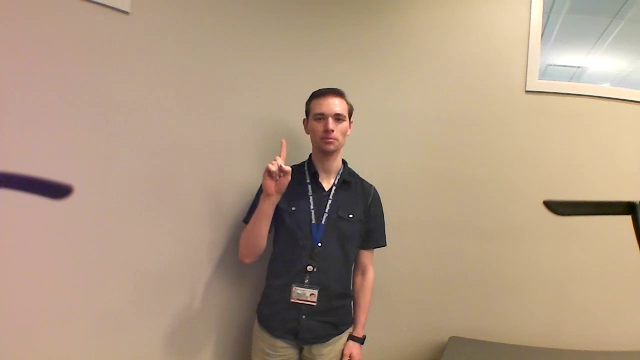up: (255, 136, 294, 202)
